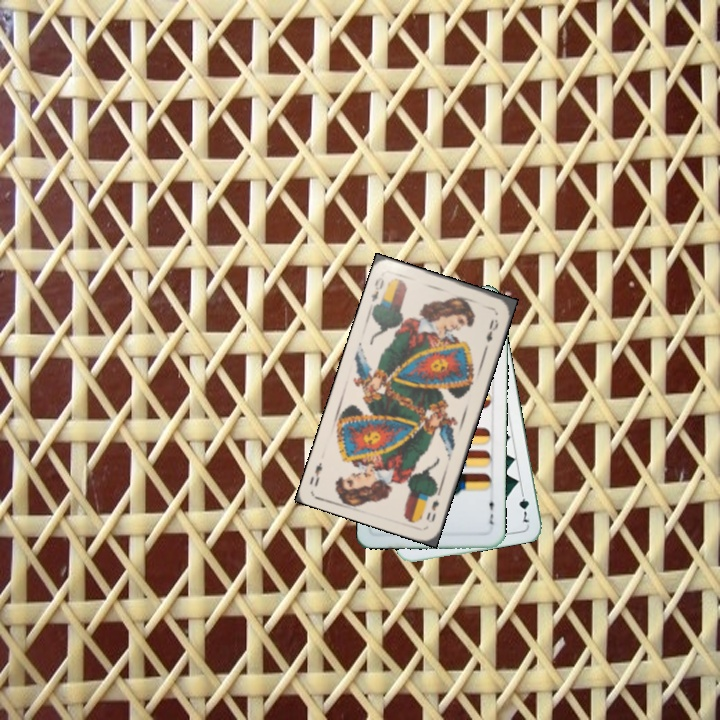E7: (485, 493, 496, 528)
EO: (422, 488, 443, 524), (367, 273, 387, 304)
G7: (515, 486, 532, 526)
